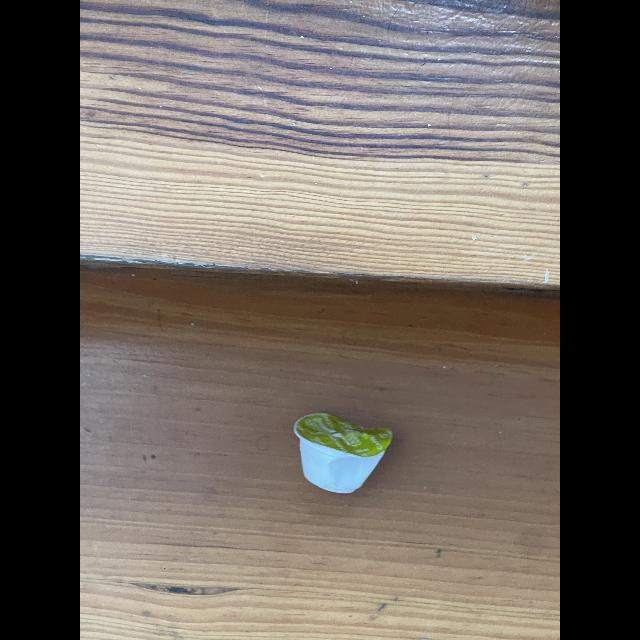damaged_capsule: (282, 407, 406, 499)
